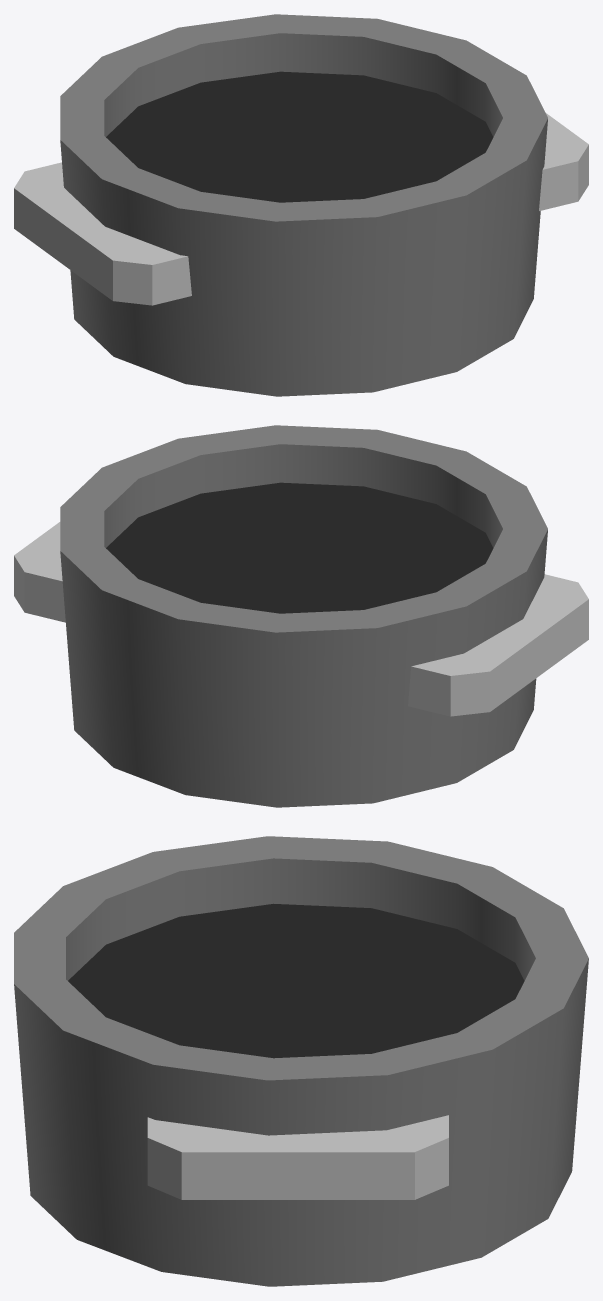
Rendered from Casserole 1.fbx.
3 views of the same model, one above another, from view 1: azimuth 30°, elevation 25°; view 2: azimuth 150°, elevation 25°; view 3: azimuth 270°, elevation 25° (orthographic). The views are drawn at different scales.
Visible parts, largest first — view 1: Casserole 1; view 2: Casserole 1; view 3: Casserole 1.
Boxes of the visible parts, x1,y1,x2,y2 form: Casserole 1: (14, 14, 588, 396); Casserole 1: (14, 425, 588, 807); Casserole 1: (14, 836, 588, 1286).
Size of the model in its own units: 70.84 by 25.75 by 62.88.
